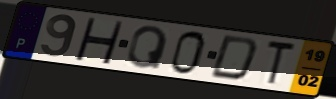0: (168, 30, 209, 76)
9: (39, 13, 78, 59)
D: (207, 33, 261, 82)
H: (72, 16, 126, 66)
Q: (125, 25, 171, 71)
T: (264, 38, 298, 87)
